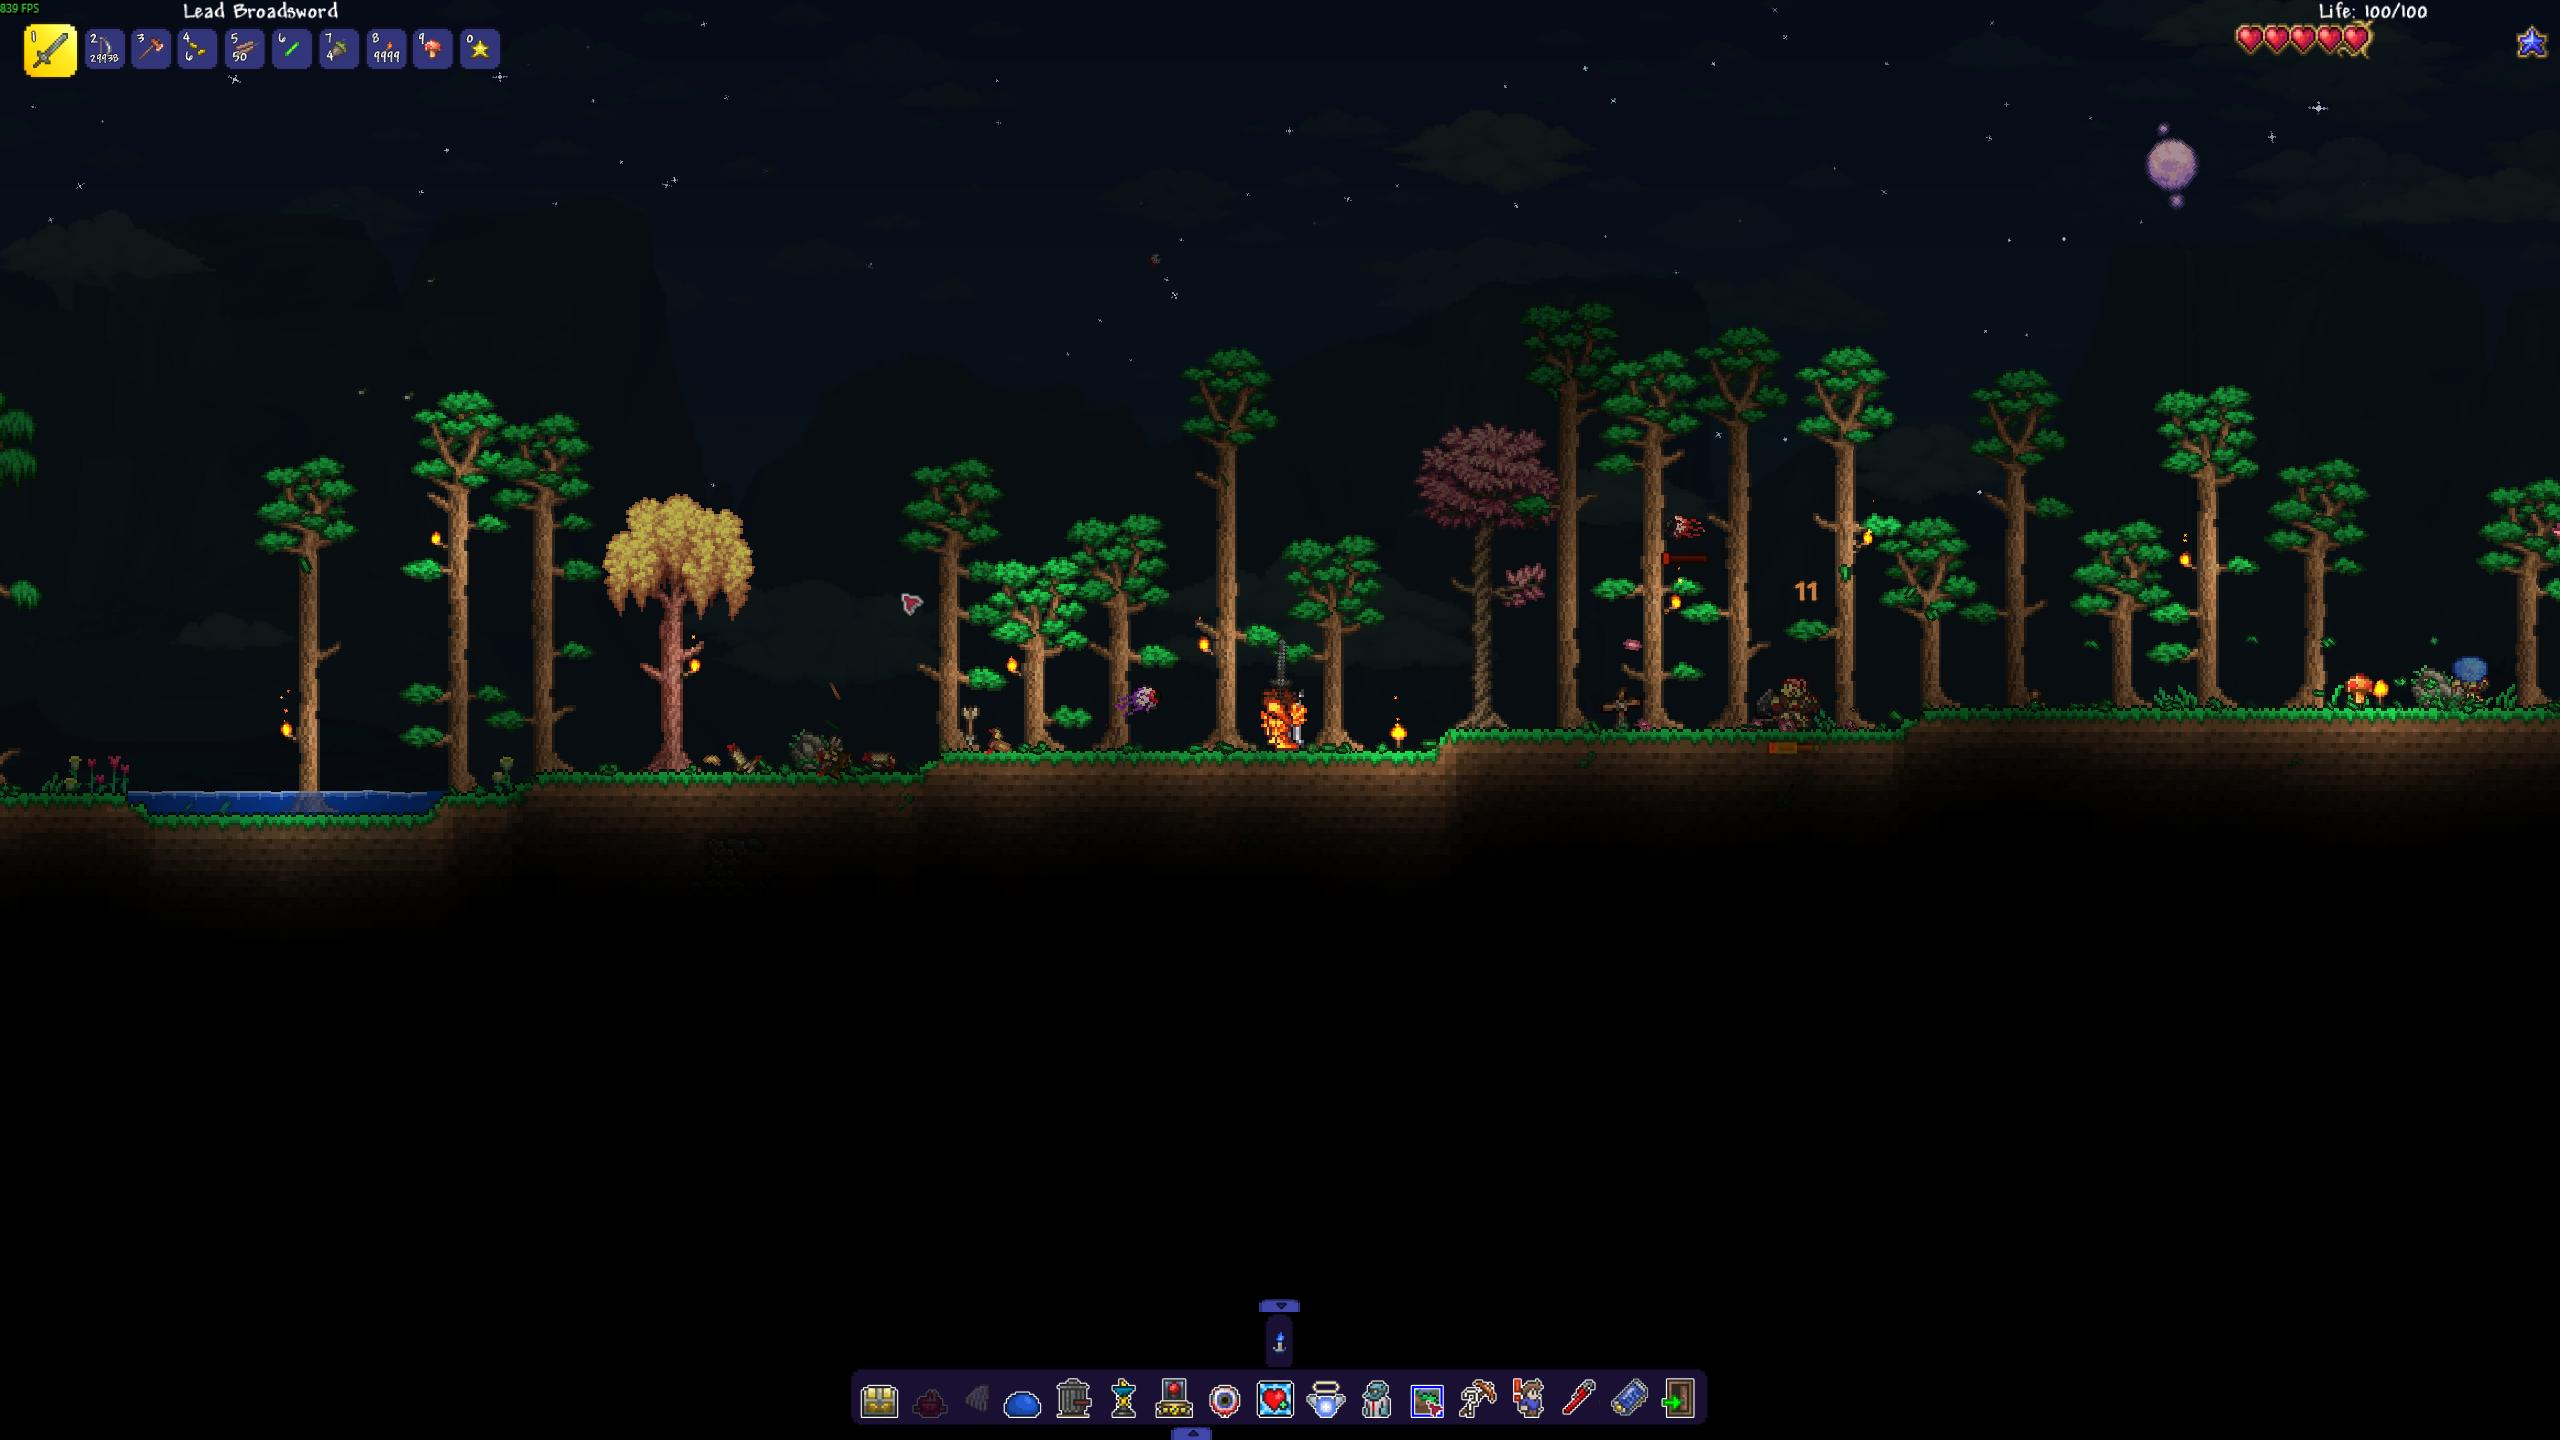Demon Eye: (1111, 682, 1169, 721), (1660, 508, 1709, 545)
Zombie: (1772, 673, 1809, 730), (2453, 656, 2493, 707)
